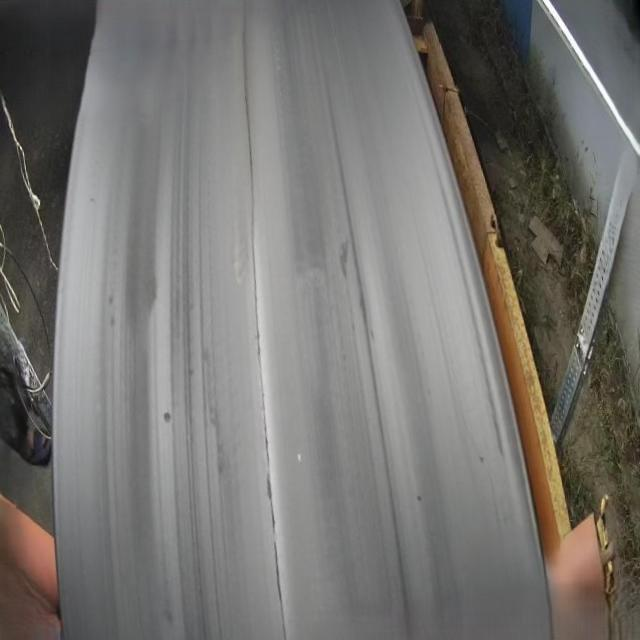Tear: (233, 0, 294, 640)
